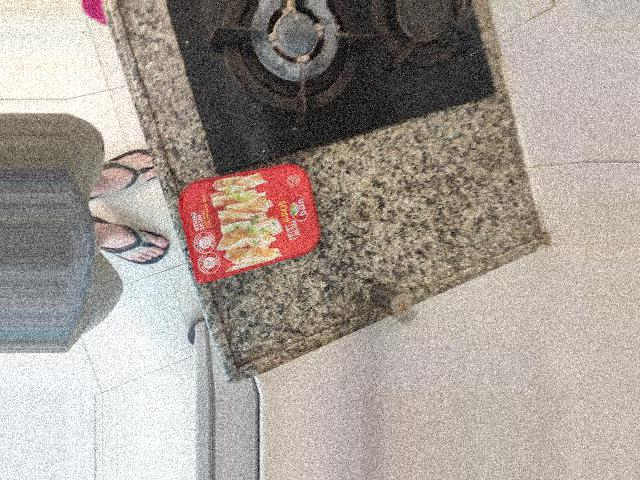cheese: (169, 158, 322, 292)
